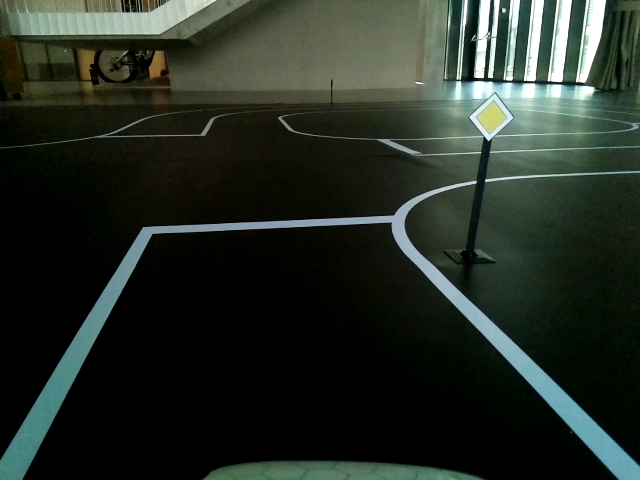priority: (466, 90, 514, 145)
